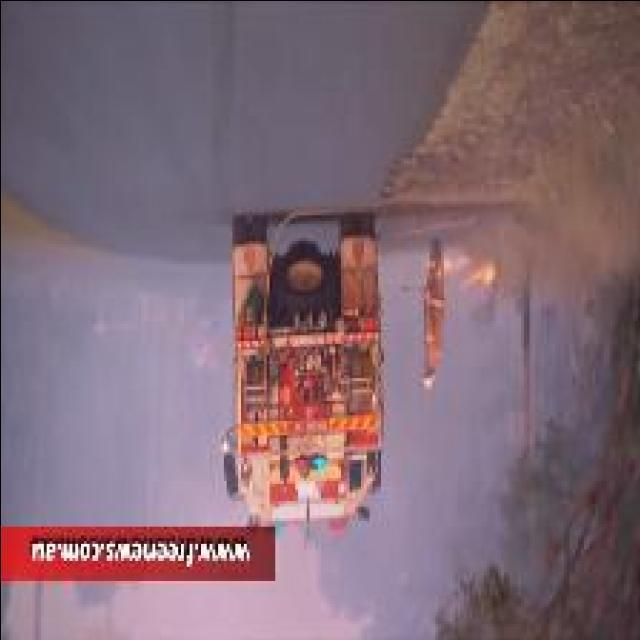Fire: (442, 254, 494, 288)
